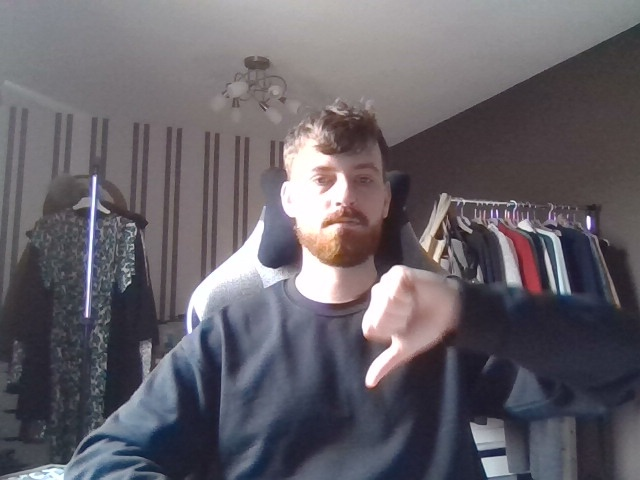Thumbs Down: (354, 248, 465, 395)
